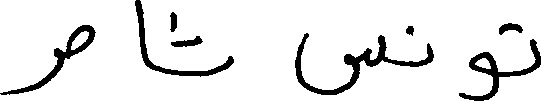ا: (135, 0, 148, 68)
ت: (498, 22, 539, 74)
ث: (165, 11, 231, 70)
ر: (0, 45, 63, 95)
س: (295, 31, 385, 95)
م: (61, 22, 91, 67)
ن: (401, 24, 433, 68)
و: (458, 51, 497, 99)
